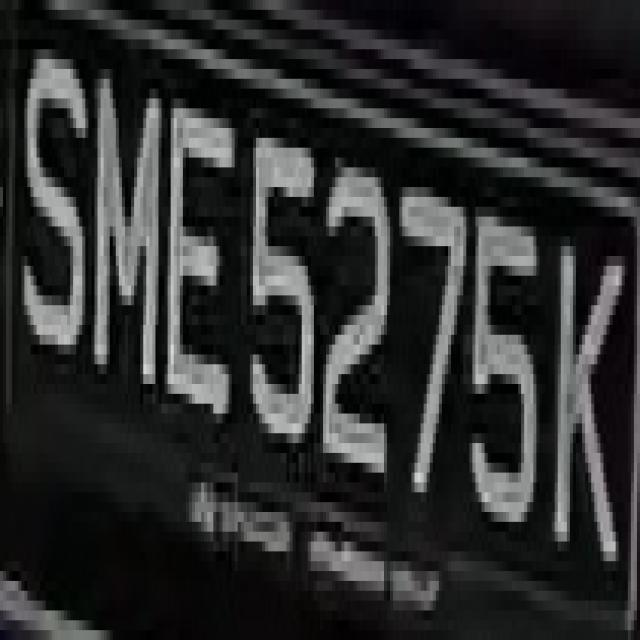2: (323, 118, 393, 492)
5: (244, 89, 323, 472), (464, 168, 540, 542)
7: (390, 119, 463, 552)
E: (168, 79, 238, 433)
K: (539, 207, 622, 581)
M: (79, 49, 165, 404)
S: (13, 20, 86, 374)
